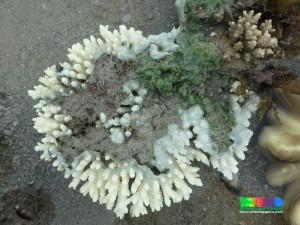bleached_corals: (92, 76, 162, 153)
